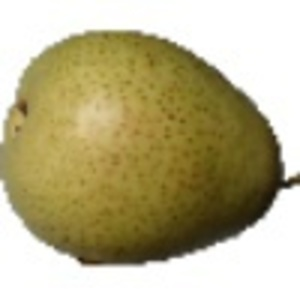pera: (1, 28, 300, 270)
